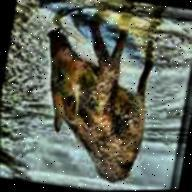boar: (22, 18, 192, 192)
